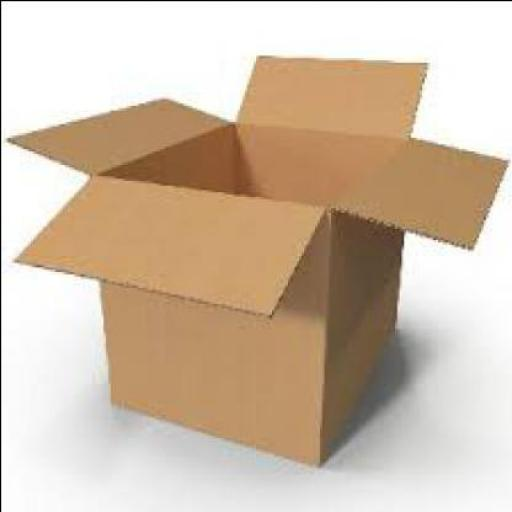cardboard: (2, 50, 504, 462)
